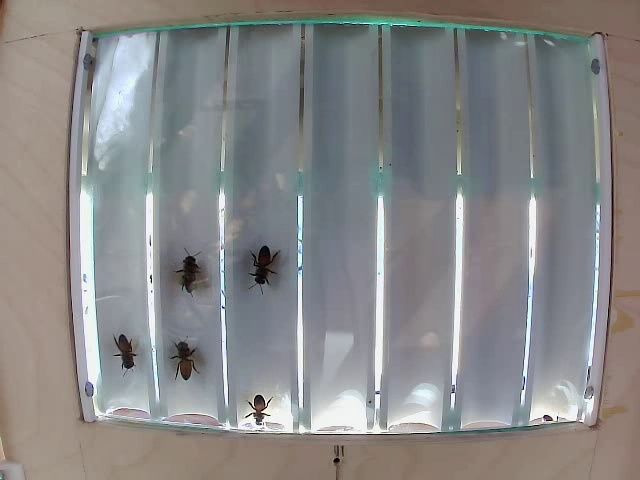bee: (243, 250, 276, 294), (168, 255, 200, 294), (240, 388, 271, 424), (93, 332, 129, 362), (160, 349, 189, 383)
